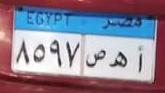5: (15, 38, 31, 67), (32, 43, 46, 65)
7: (64, 40, 80, 68)
9: (49, 38, 63, 67)
alif: (136, 42, 145, 76)
haa: (108, 49, 129, 73)
saad: (86, 48, 107, 69)
